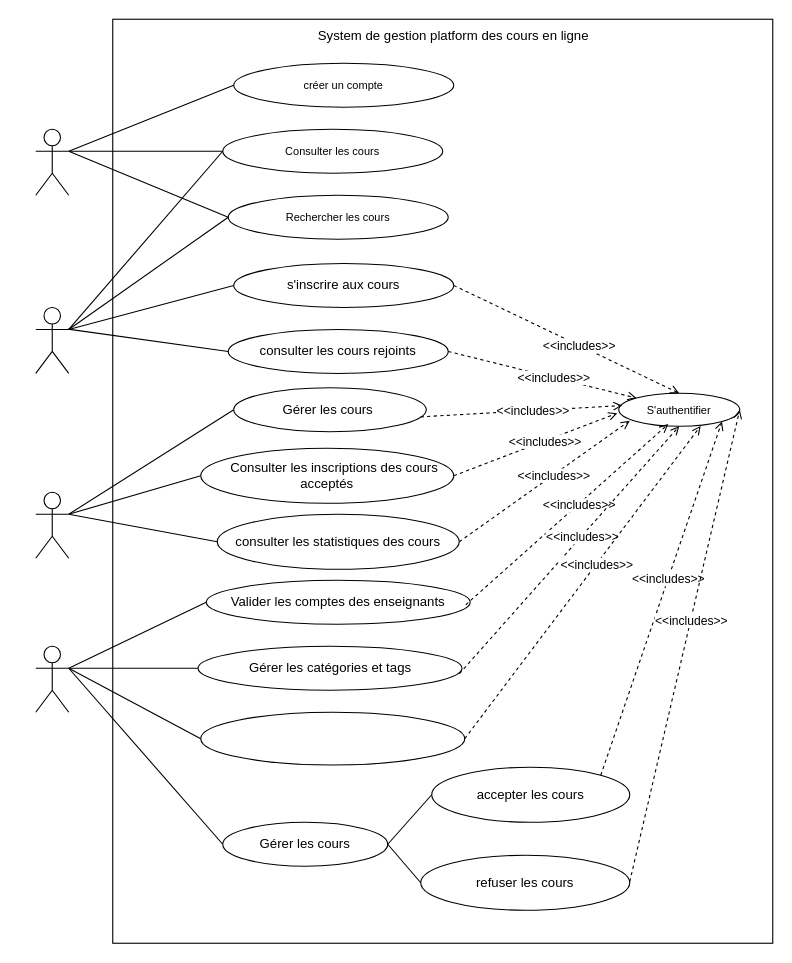
Image size: 792x963. Some labels were removed from this diagram. Here are the shapes that lost their labels. From the top down, the box of each, then its label:
(35, 128, 69, 195): Visitor
(35, 306, 69, 373): Etudiant
(35, 491, 69, 558): Enseignant
(35, 645, 69, 712): Admin
(200, 711, 465, 765): Consulter paneaux de statistics global
